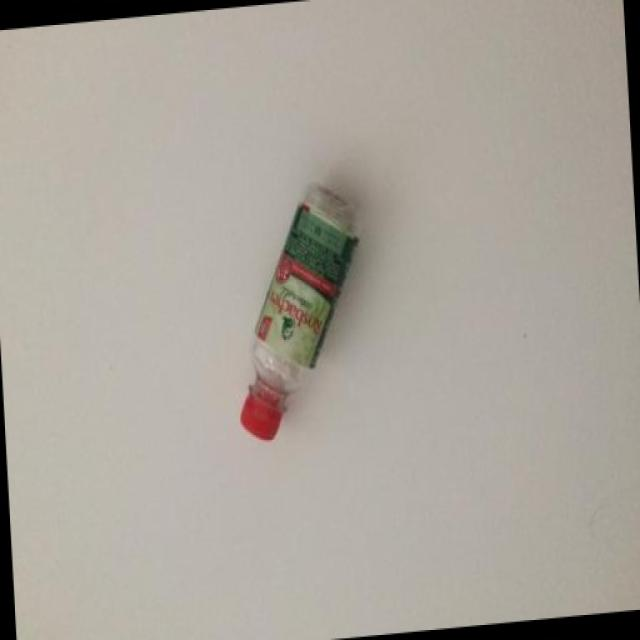plastico: (220, 166, 404, 492)
